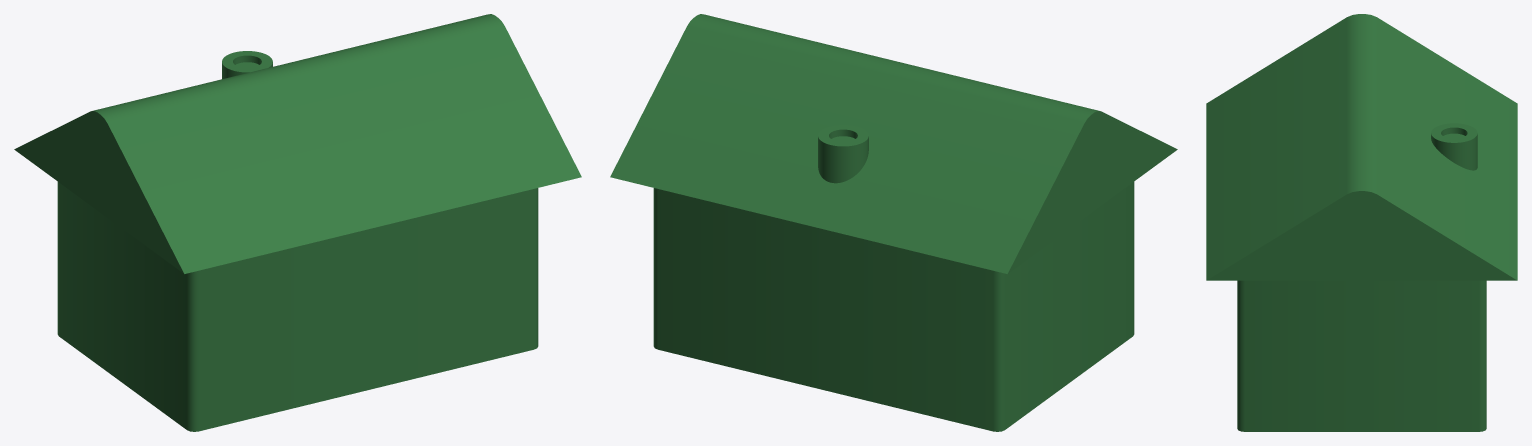
Rendered from house.fbx.
3 views of the same model, side by side, from view 1: azimuth 30°, elevation 25°; view 2: azimuth 150°, elevation 25°; view 3: azimuth 270°, elevation 25° (orthographic). The views are drawn at different scales.
Visible parts, largest first — view 1: ExportHouse; view 2: ExportHouse; view 3: ExportHouse.
Part boxes in pixels (x1,y1,x2,y2): ExportHouse: [14, 14, 581, 431]; ExportHouse: [610, 14, 1177, 431]; ExportHouse: [1206, 14, 1517, 431].
Bounding box in the file's own units: 128 × 84.98 × 95.34.
